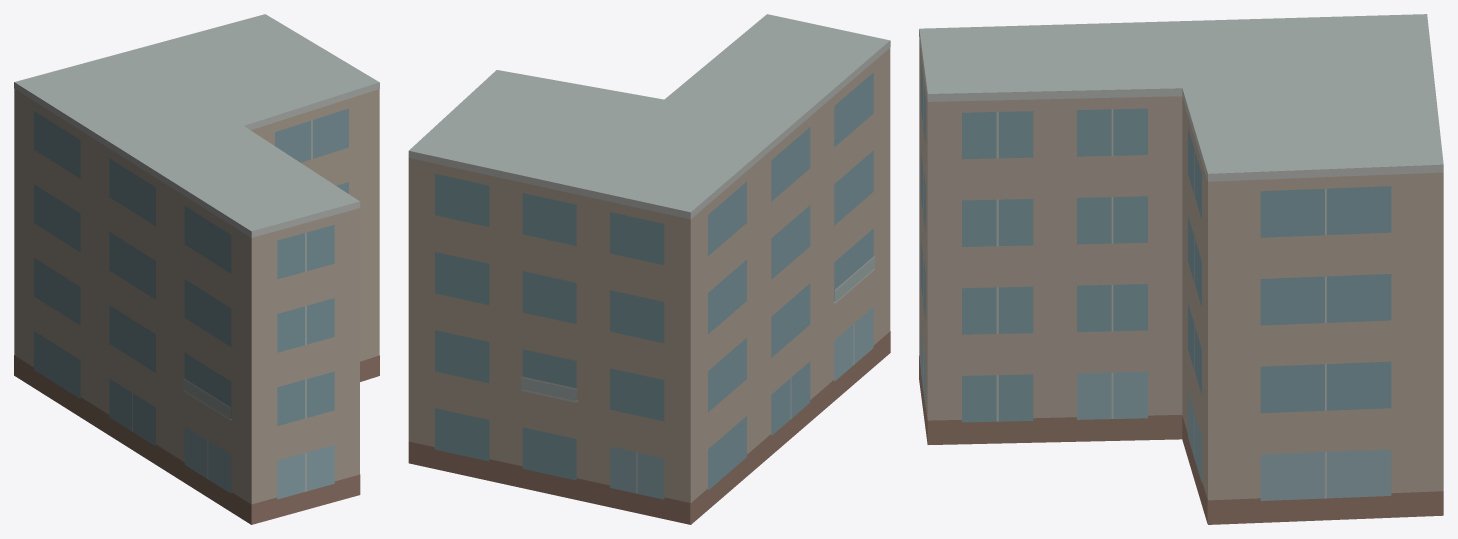
Rendered from survey-upis-32590712.glb.
3 views of the same model, side by side, from view 1: azimuth 30°, elevation 25°; view 2: azimuth 150°, elevation 25°; view 3: azimuth 270°, elevation 25° (orthographic). The views are drawn at different scales.
Parts seen in each view (by area): view 1: survey-upis-32590712.tmp; view 2: survey-upis-32590712.tmp; view 3: survey-upis-32590712.tmp.
Part boxes in pixels (bbox=[...]): survey-upis-32590712.tmp: bbox=[14, 14, 379, 524]; survey-upis-32590712.tmp: bbox=[408, 14, 890, 524]; survey-upis-32590712.tmp: bbox=[919, 14, 1443, 524].
Size of the model in its own units: 10.63 by 10.87 by 14.73.
